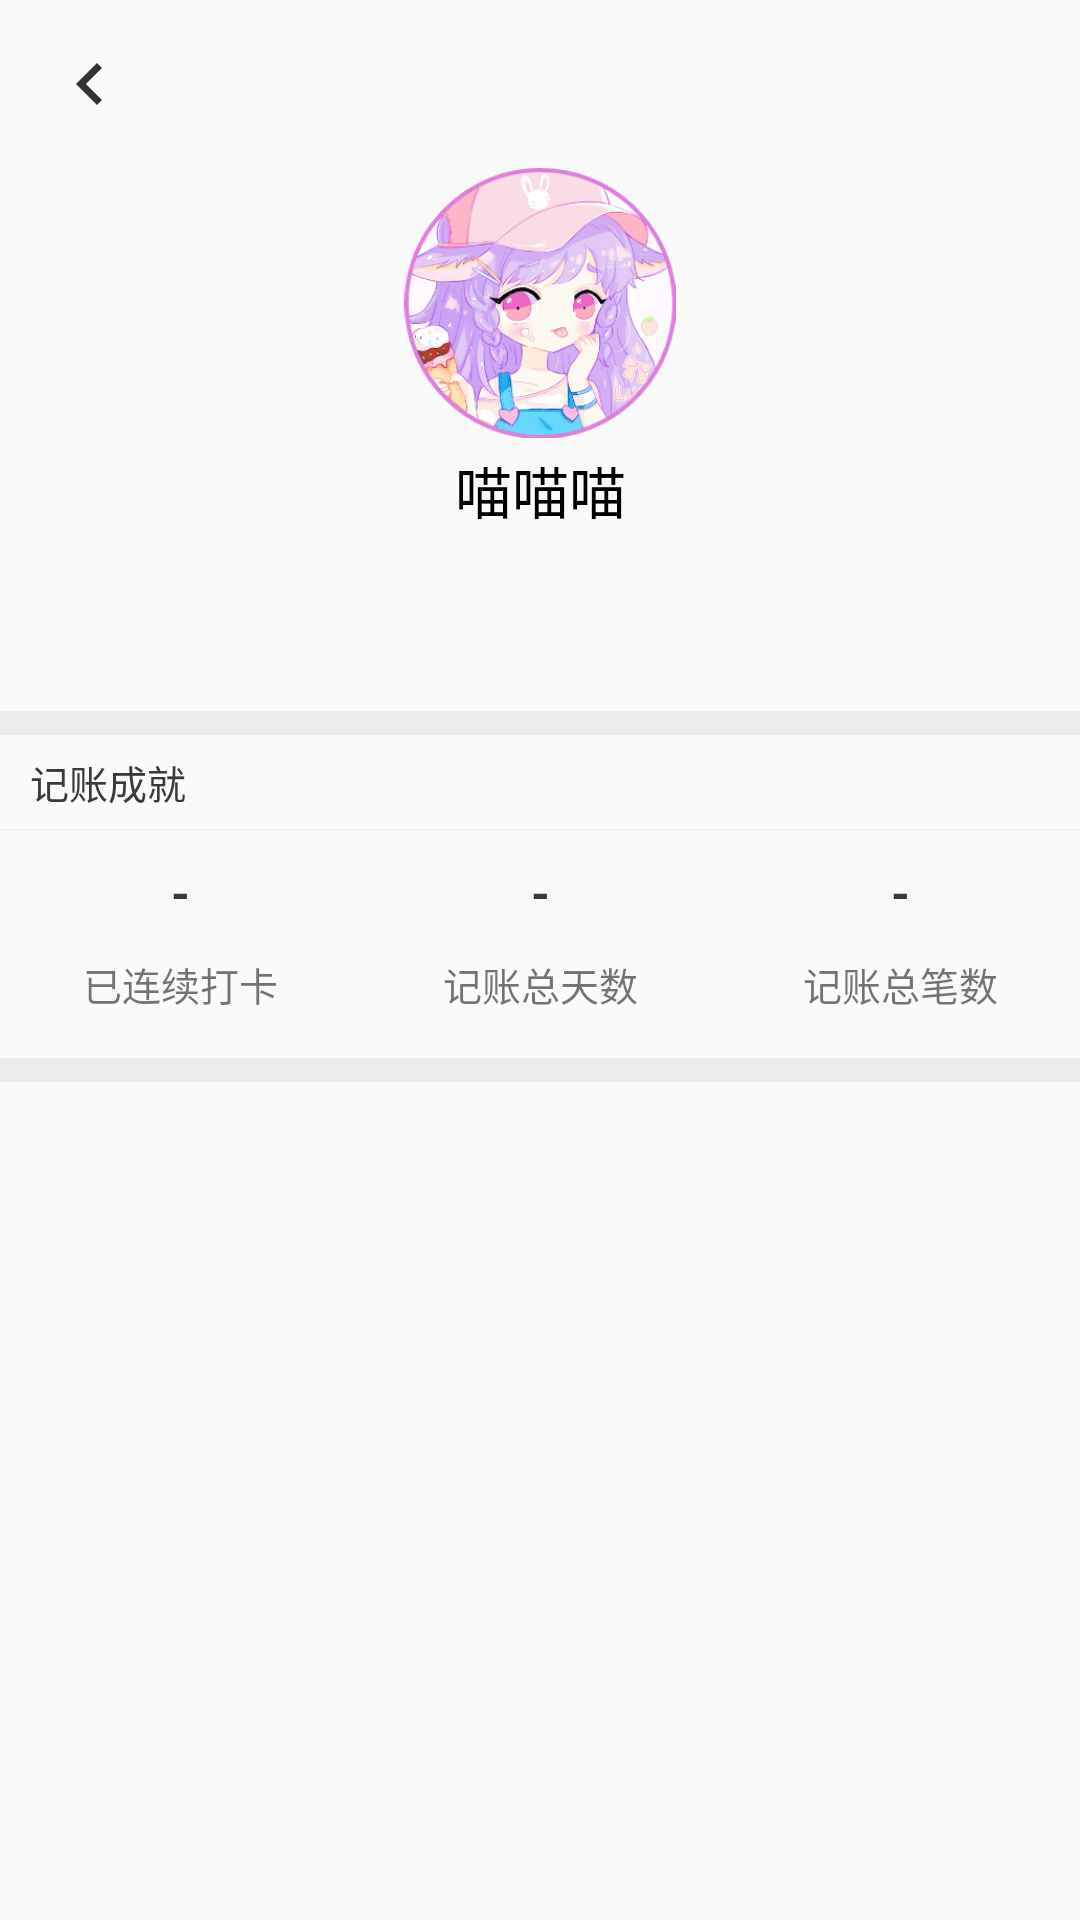

Named icons in this screenshot (1080 x 1920) and their bounding boxes, box(x1, y1, x2, y2):
back: box(76, 63, 102, 105)
head: box(404, 168, 676, 438)
